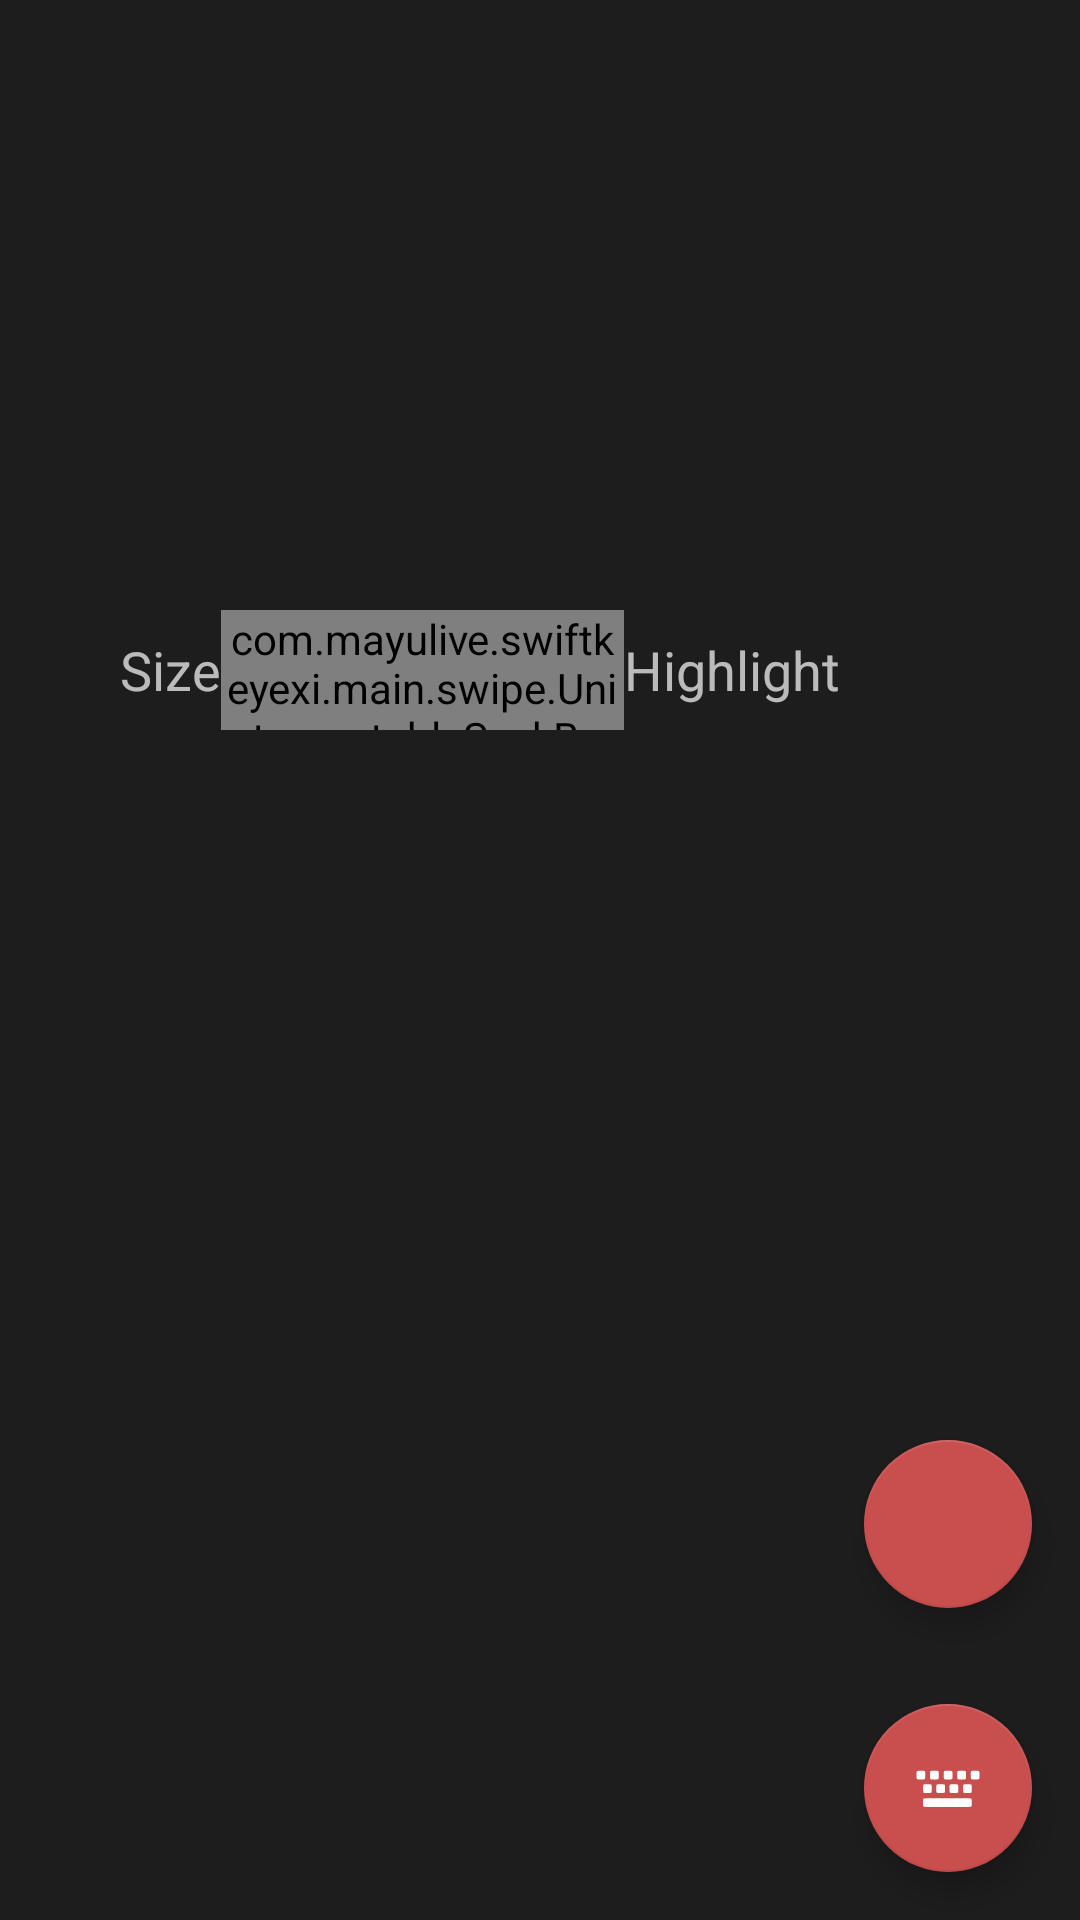

Icons on this 1080px x 1920px Android screen, each with the point to tap as point (x, y):
keyboardbutton: point (948, 1788)
